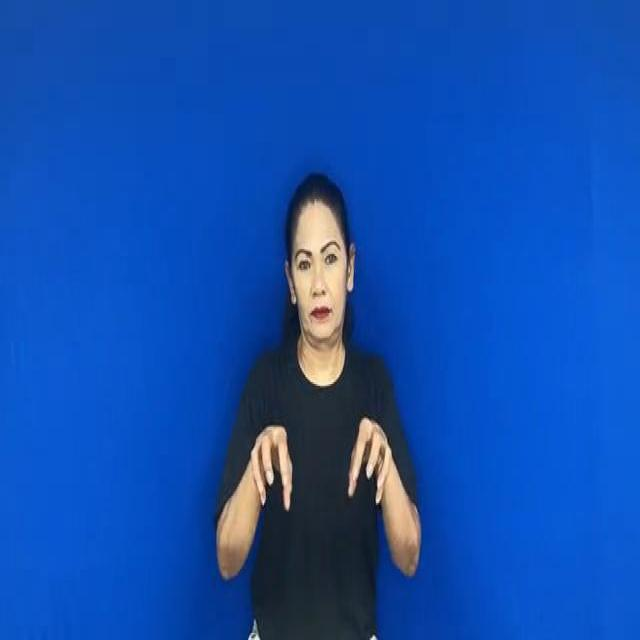egg: (249, 407, 403, 523)
